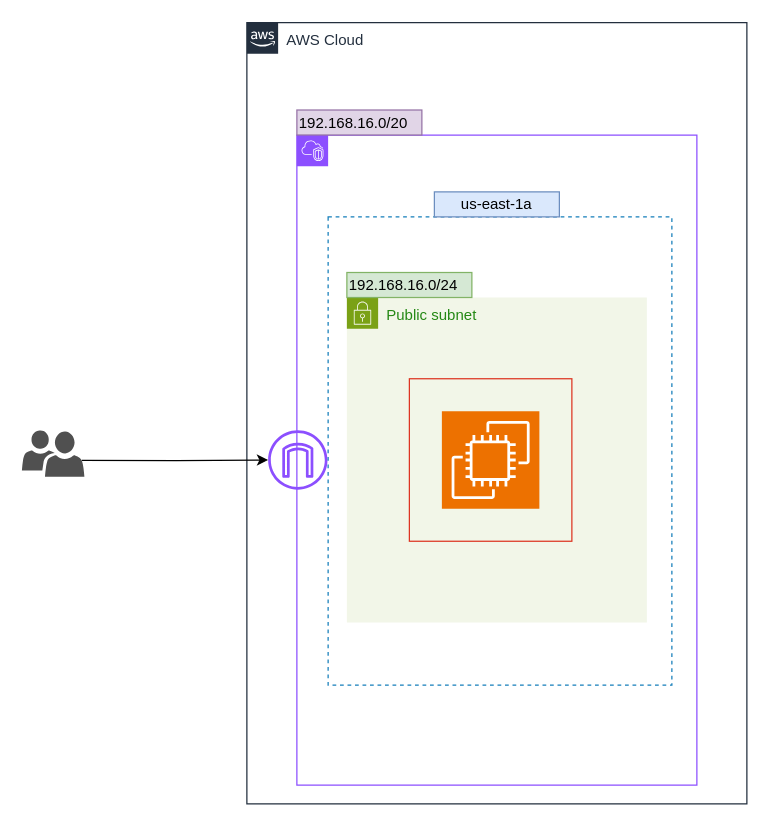
Some shapes in this 769 by 825 pixel diagram are drawn without their labels. Each missing label, with the box of its shape:
Availability Zone: (327, 216, 672, 685)
Security group: (408, 378, 572, 541)
VPC: (296, 134, 697, 785)
